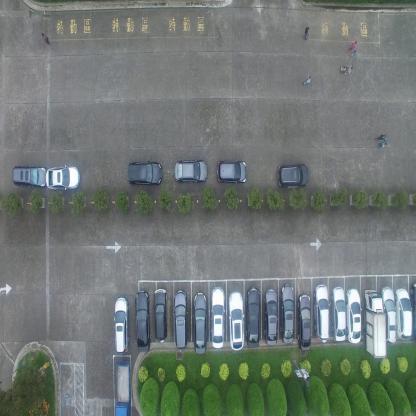car: (363, 288, 387, 359), (135, 290, 152, 351), (313, 284, 330, 345), (126, 160, 163, 187), (172, 157, 208, 184), (228, 290, 244, 350), (210, 286, 225, 350), (192, 290, 207, 354), (330, 286, 347, 342), (394, 288, 413, 338), (46, 165, 82, 191), (280, 282, 295, 344), (173, 288, 188, 349), (114, 296, 130, 353), (381, 285, 396, 345), (215, 157, 247, 185), (275, 162, 309, 188), (115, 360, 131, 415), (12, 165, 47, 190), (264, 288, 278, 346), (247, 286, 260, 348), (297, 294, 311, 351), (347, 287, 361, 344), (154, 286, 168, 342), (410, 282, 415, 339)
